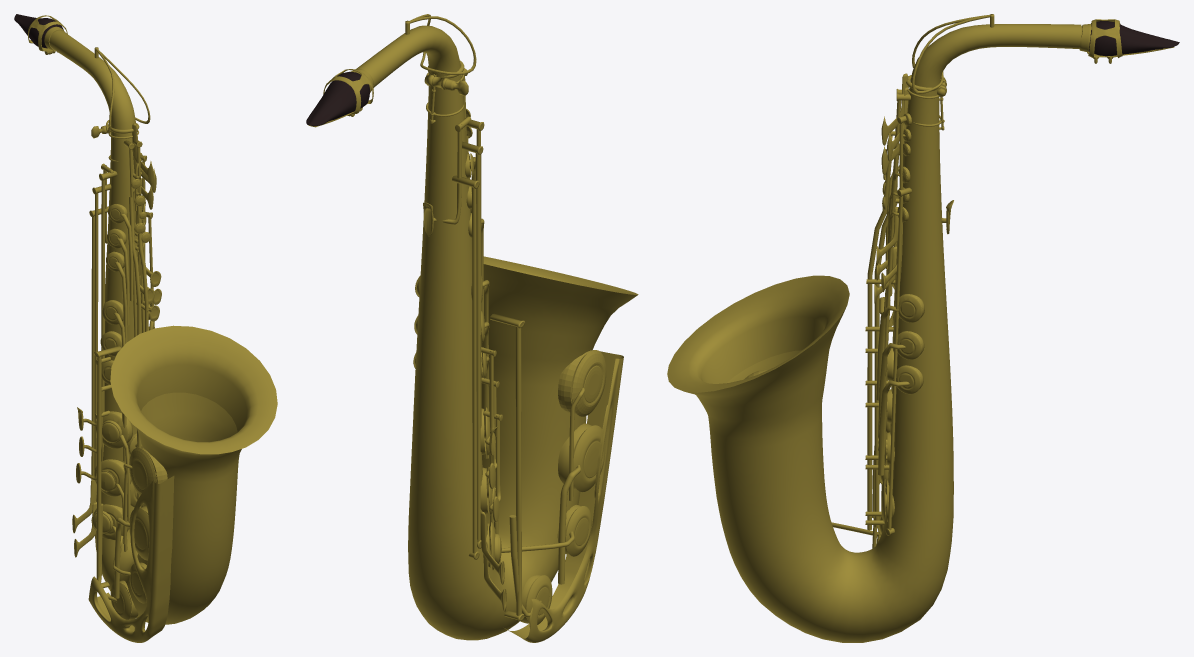
Rendered from saxophone-transformed.glb.
3 views of the same model, side by side, from view 1: azimuth 30°, elevation 25°; view 2: azimuth 150°, elevation 25°; view 3: azimuth 270°, elevation 25° (orthographic). The views are drawn at different scales.
Visible parts, largest first — view 1: Object_2, Object_3, Object_4, Object_5; view 2: Object_2, Object_3, Object_4, Object_5; view 3: Object_2, Object_3, Object_5, Object_4.
Part boxes in pixels (x1,y1,x2,y2): Object_2: (49, 30, 277, 624); Object_3: (23, 15, 174, 642); Object_4: (96, 49, 167, 602); Object_5: (14, 14, 63, 48); Object_2: (356, 25, 638, 640); Object_3: (308, 20, 623, 642); Object_4: (410, 14, 606, 617); Object_5: (306, 71, 369, 126); Object_2: (667, 24, 1081, 642); Object_3: (865, 14, 1174, 535); Object_5: (1088, 21, 1179, 56); Object_4: (744, 14, 989, 548).
Size of the model in its own units: 2.63 by 8.91 by 6.63.
